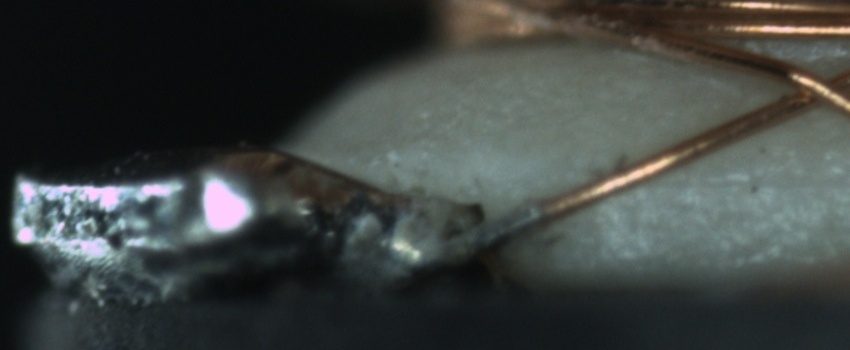CL: (771, 60, 847, 116)
DL: (623, 145, 850, 215)
TS: (442, 204, 550, 265)
